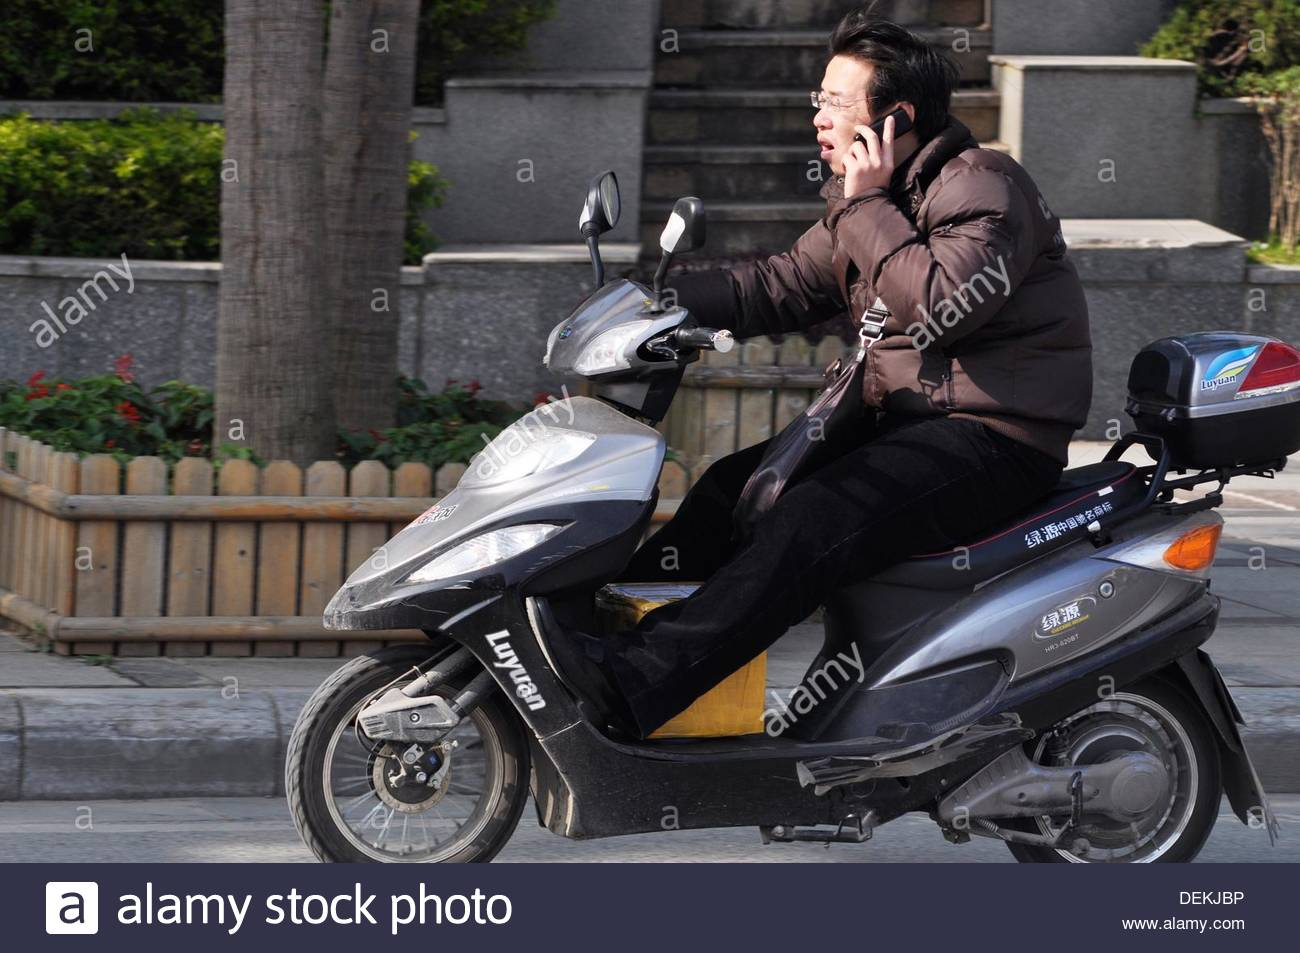dieu khien xe may: (358, 30, 1051, 769)
su dung dien thoai: (813, 28, 950, 206)
